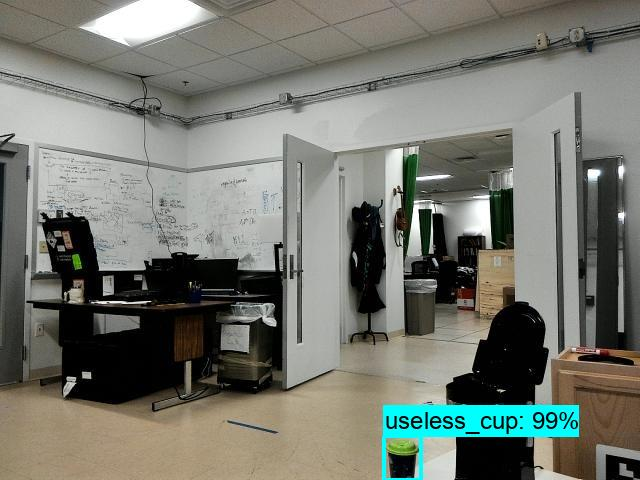useless_cup: (382, 437, 421, 480)
